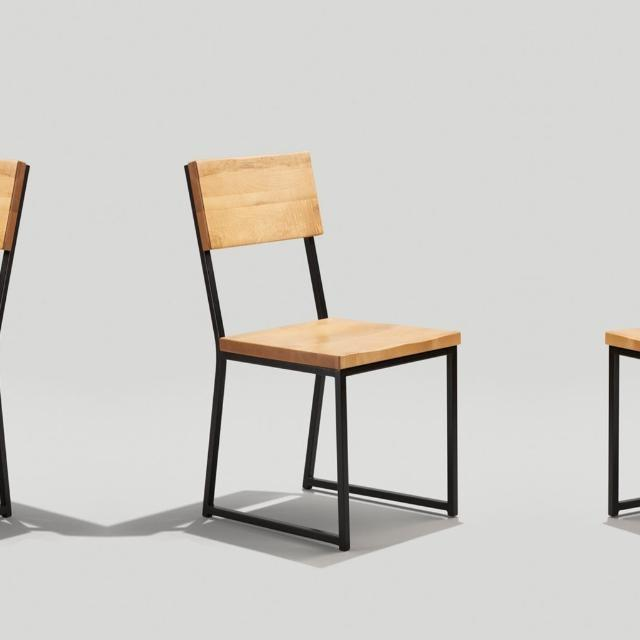obstacle: (169, 136, 485, 574), (580, 135, 640, 574), (0, 135, 43, 574)
